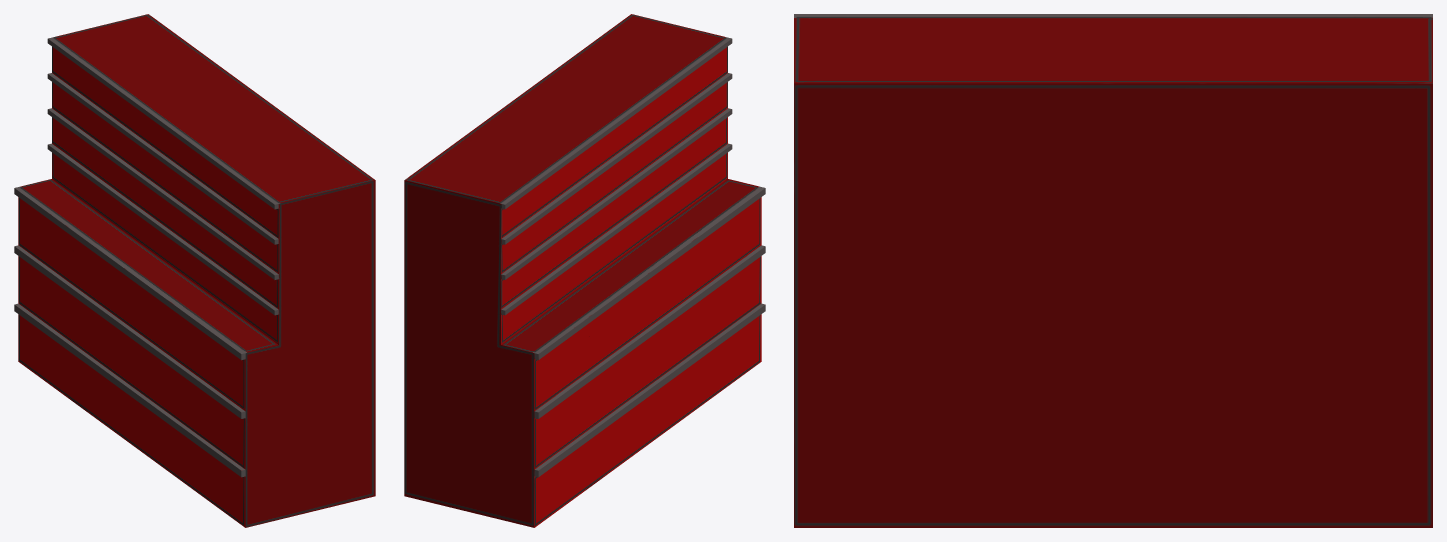
File: ToolChest.FBX
The picture shows the model from 3 angles, left to right: view 1: azimuth 30°, elevation 25°; view 2: azimuth 150°, elevation 25°; view 3: azimuth 270°, elevation 25°; orthographic projection. The views are drawn at different scales.
Visible parts, largest first — view 1: ToolChest; view 2: ToolChest; view 3: ToolChest.
Part boxes in pixels (x1,y1,x2,y2): ToolChest: (14,14,375,527); ToolChest: (404,14,765,527); ToolChest: (794,14,1432,527).
Bounding box in the file's own units: 28.5 × 64.19 × 83.58.
Materials: 1 (1 with a texture image).
